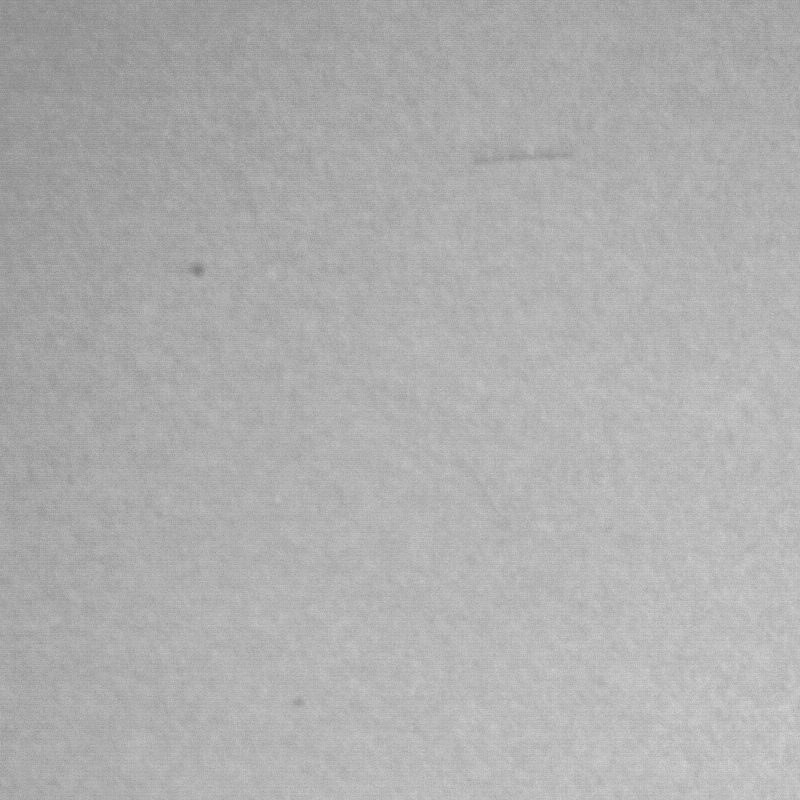defect: (472, 149, 580, 167), (288, 689, 326, 717), (182, 261, 206, 283)
